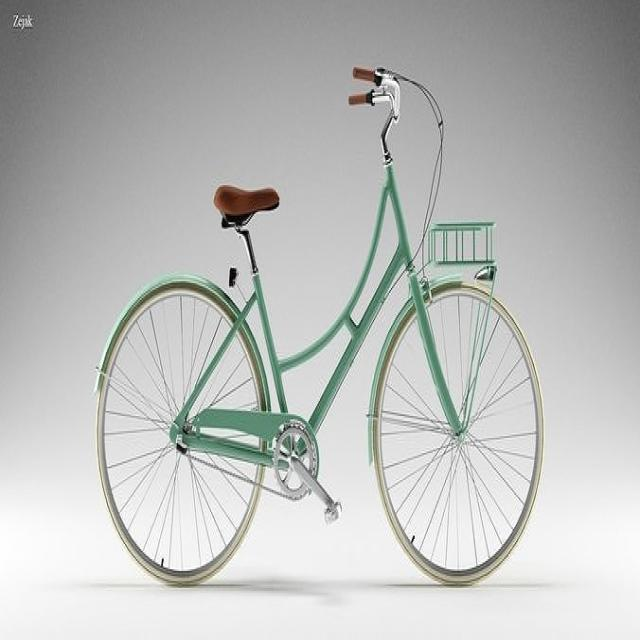urban-bike: (91, 62, 546, 589)
